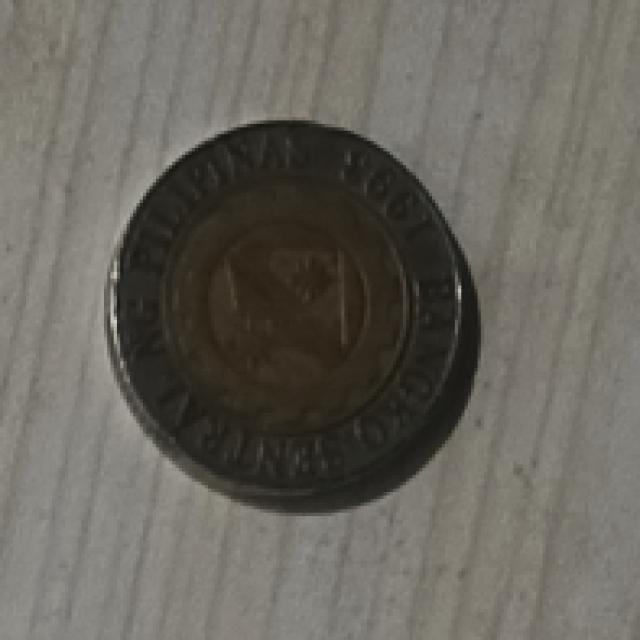10_peso: (107, 120, 474, 509)
